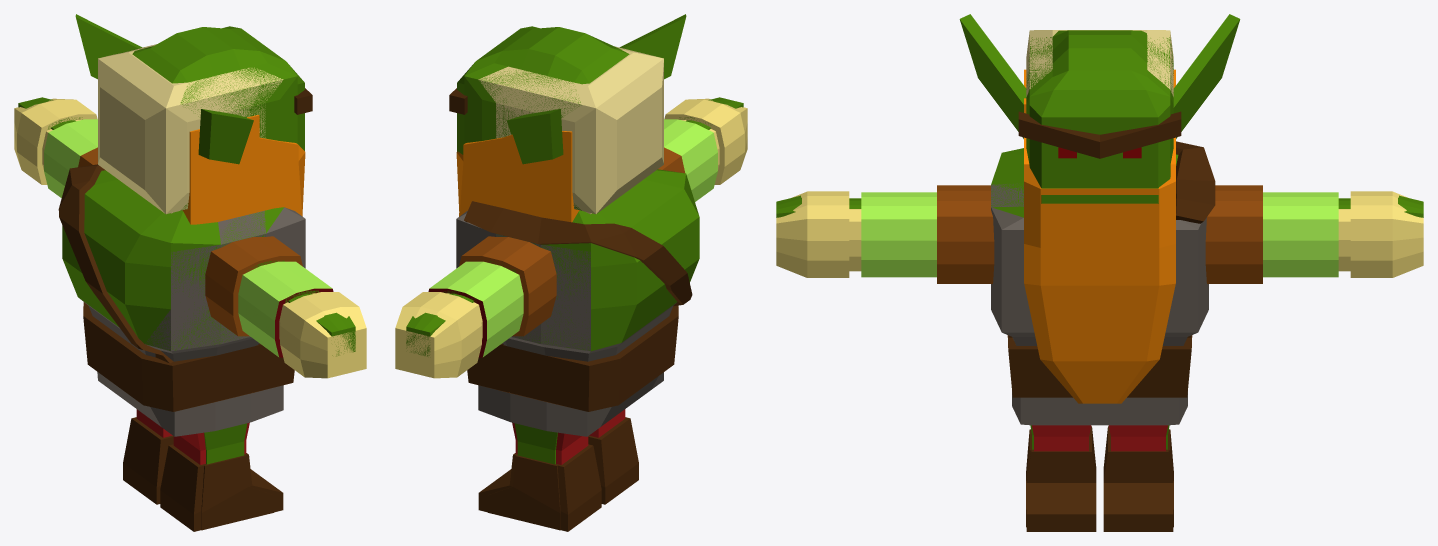
Rendered from Citizen3.fbx.
3 renders of one model, left to right at view 1: azimuth 30°, elevation 25°; view 2: azimuth 150°, elevation 25°; view 3: azimuth 270°, elevation 25°, orthographic. The views are drawn at different scales.
Parts seen in each view (by area): view 1: Cube, Cube.005, Cube.002, Cube.004, Cube.001, Cube.006, Cube.009, Cube.007; view 2: Cube, Cube.005, Cube.002, Cube.004, Cube.001, Cube.006, Cube.009, Cube.007; view 3: Cube.002, Cube.004, Cube.005, Cube, Cube.001, Cube.009, Cube.010, Cube.007.
Boxes of the visible parts, box(x1,y1,x2,y2) form: Cube: box(80, 44, 305, 436); Cube.005: box(58, 26, 304, 392); Cube.002: box(14, 98, 366, 378); Cube.004: box(182, 114, 305, 224); Cube.001: box(123, 409, 283, 531); Cube.006: box(201, 423, 274, 530); Cube.009: box(75, 14, 253, 164); Cube.007: box(18, 97, 355, 356); Cube: box(456, 47, 678, 436); Cube.005: box(457, 26, 699, 392); Cube.002: box(395, 98, 747, 378); Cube.004: box(456, 131, 579, 222); Cube.001: box(478, 409, 638, 531); Cube.006: box(487, 423, 560, 530); Cube.009: box(507, 14, 686, 164); Cube.007: box(406, 97, 743, 356); Cube.002: box(776, 185, 1423, 283); Cube.004: box(1024, 69, 1175, 403); Cube.005: box(991, 30, 1215, 337); Cube: box(991, 30, 1208, 425); Cube.001: box(1026, 425, 1173, 531); Cube.009: box(959, 14, 1240, 138); Cube.010: box(1018, 111, 1181, 158); Cube.007: box(776, 195, 1423, 217).
Bounding box in the file's own units: 343 × 735 × 921.
